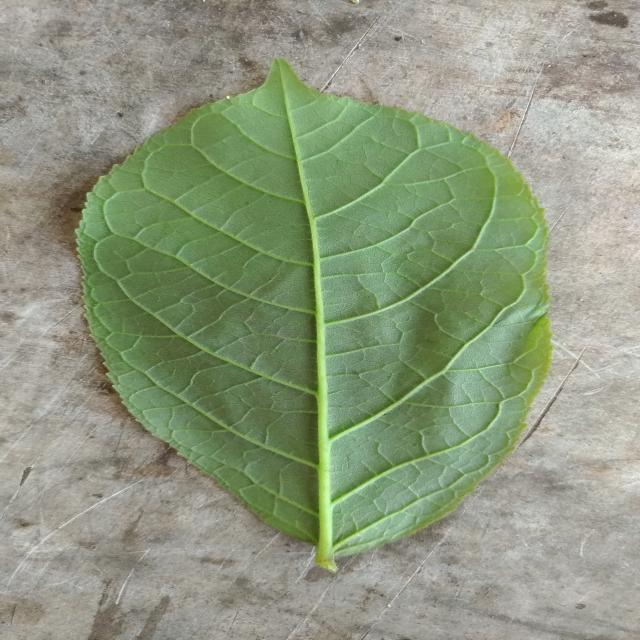padri: (78, 60, 551, 571)
